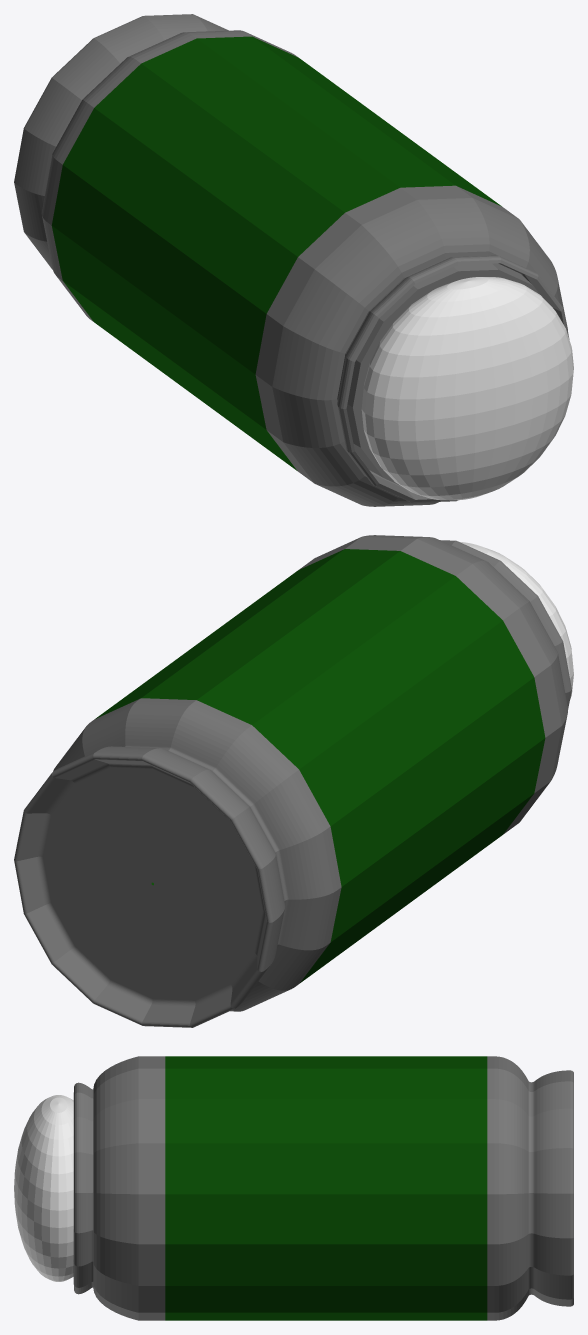
File: beer.fbx
3 renders of one model, top to bottom at view 1: azimuth 30°, elevation 25°; view 2: azimuth 150°, elevation 25°; view 3: azimuth 270°, elevation 25°, orthographic. The views are drawn at different scales.
Visible parts, largest first — view 1: Curve, Sphere; view 2: Curve, Sphere; view 3: Curve, Sphere.
Boxes of the visible parts, <box> form: Curve: <box>14,14,569,506</box>; Sphere: <box>361,277,573,500</box>; Curve: <box>14,535,571,1027</box>; Sphere: <box>459,541,573,699</box>; Curve: <box>73,1056,573,1320</box>; Sphere: <box>14,1095,73,1281</box>.
Size of the model in its own units: 308 by 308 by 651.
